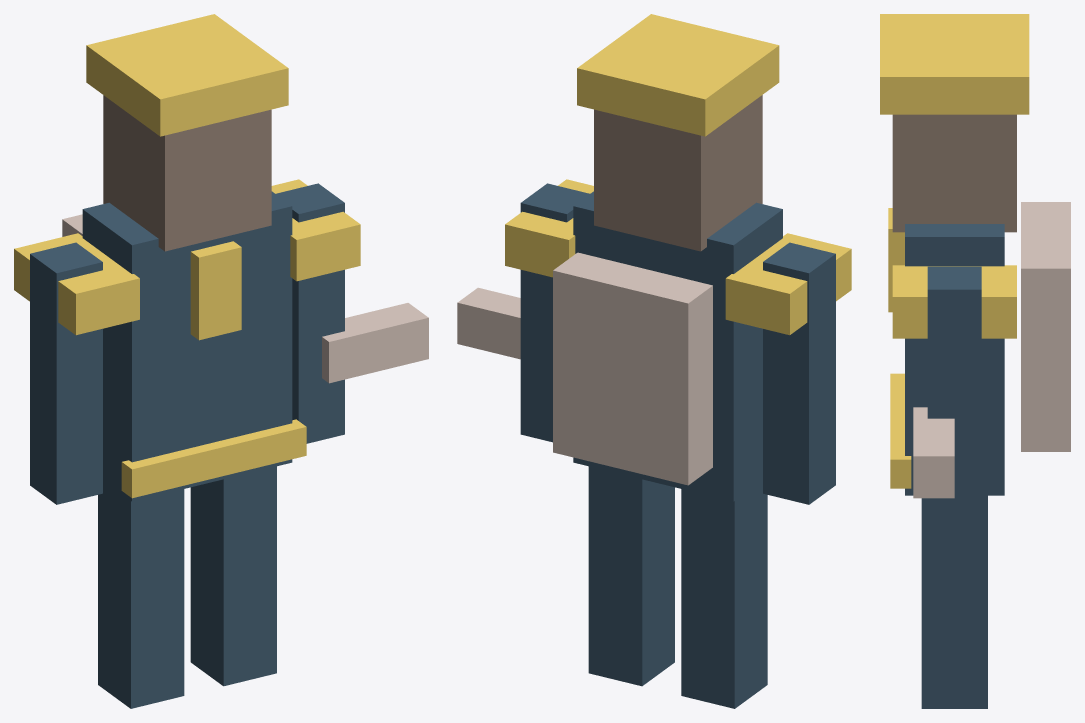
The model's file is 08_nyra_glassroot_specialist_from_transit.glb.
3 renders of one model, left to right at view 1: azimuth 30°, elevation 25°; view 2: azimuth 150°, elevation 25°; view 3: azimuth 270°, elevation 25°, orthographic.
Parts seen in each view (by area): view 1: Nyra Glassroot, Specialist from Transit; view 2: Nyra Glassroot, Specialist from Transit; view 3: Nyra Glassroot, Specialist from Transit.
Part boxes in pixels (<box>): Nyra Glassroot, Specialist from Transit: <box>14,14,428,708</box>; Nyra Glassroot, Specialist from Transit: <box>457,14,851,708</box>; Nyra Glassroot, Specialist from Transit: <box>880,14,1070,708</box>.
Bounding box in the file's own units: 0.9598 × 1.56 × 0.4307.
